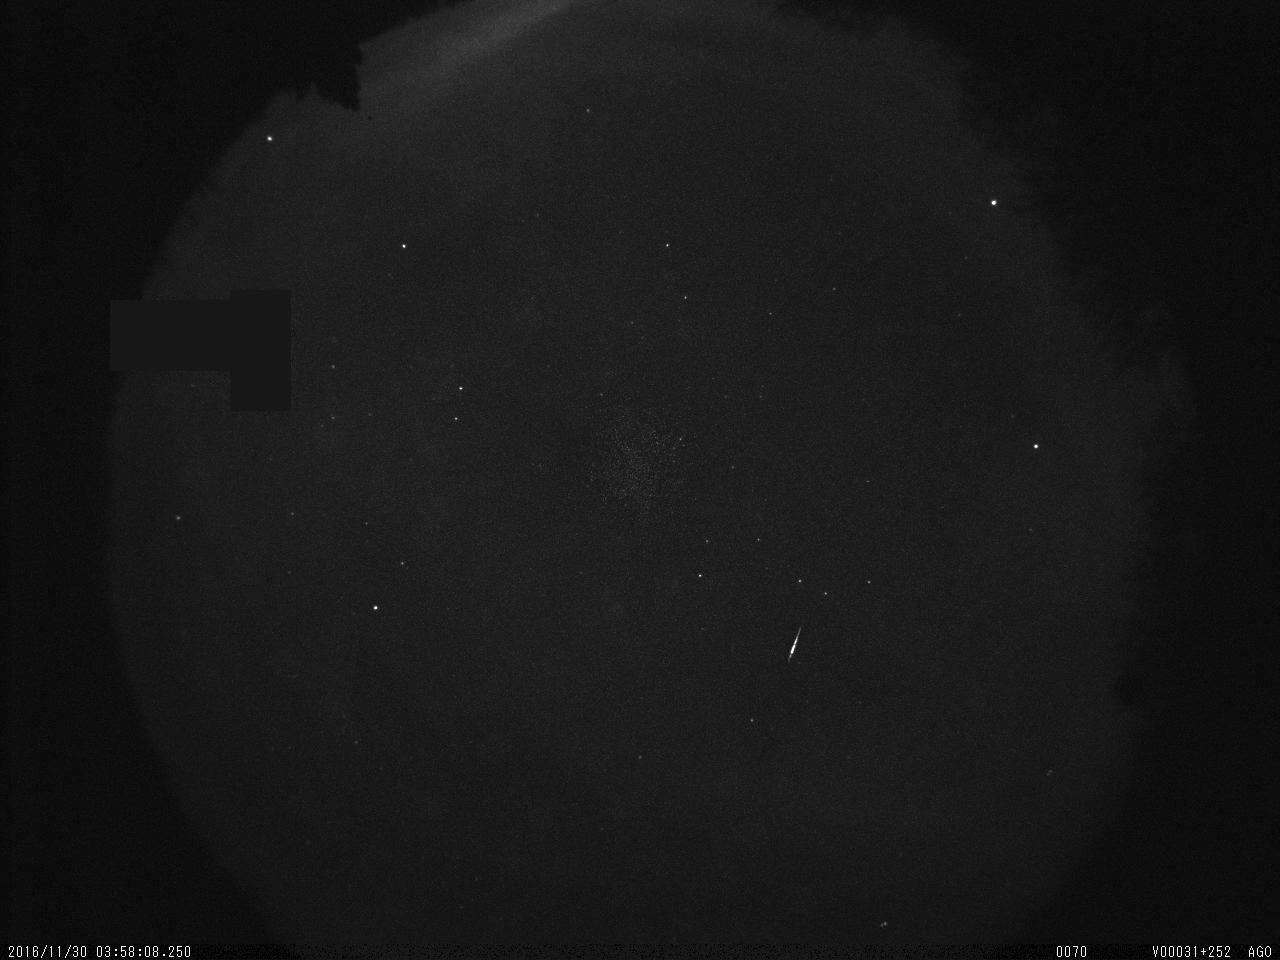meteor: (782, 621, 809, 668)
